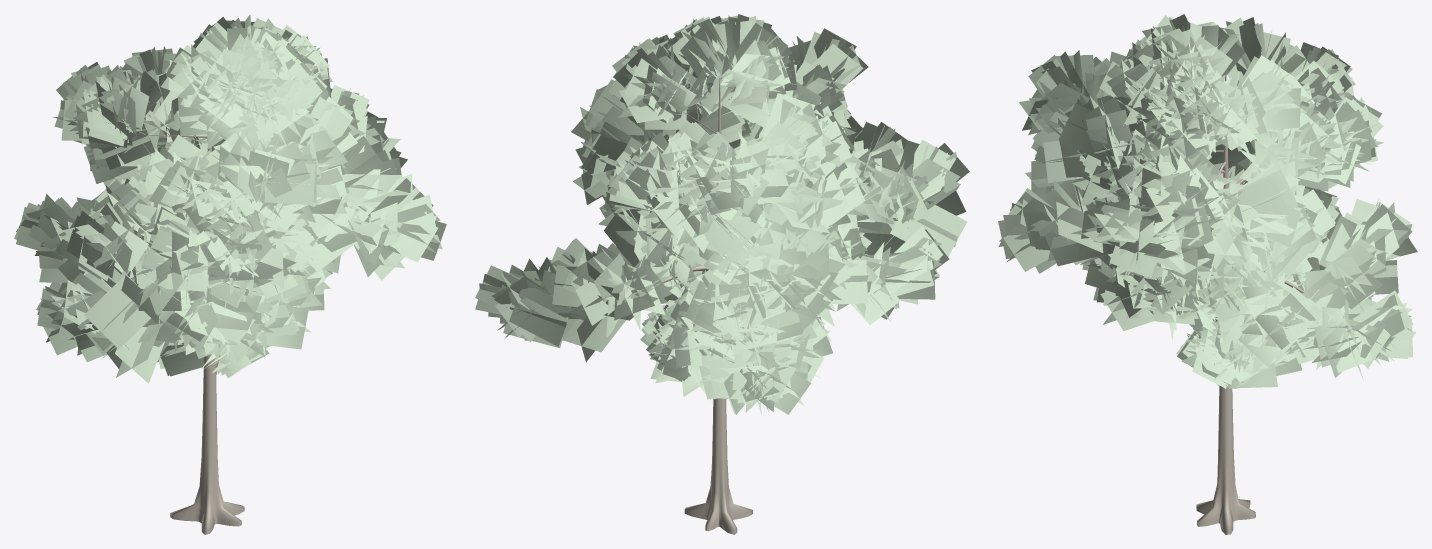
The model's file is tree-5.gltf.
The picture shows the model from 3 angles, left to right: view 1: azimuth 30°, elevation 25°; view 2: azimuth 150°, elevation 25°; view 3: azimuth 270°, elevation 25°; orthographic projection. The views are drawn at different scales.
Visible parts, largest first — view 1: TerraWeave Arbor; view 2: TerraWeave Arbor; view 3: TerraWeave Arbor.
Boxes of the visible parts, left/top/right/bottom form: TerraWeave Arbor: left=14, top=14, right=446, bottom=534; TerraWeave Arbor: left=475, top=14, right=969, bottom=534; TerraWeave Arbor: left=998, top=14, right=1417, bottom=534.
Size of the model in its own units: 8.76 by 11.22 by 8.59.
